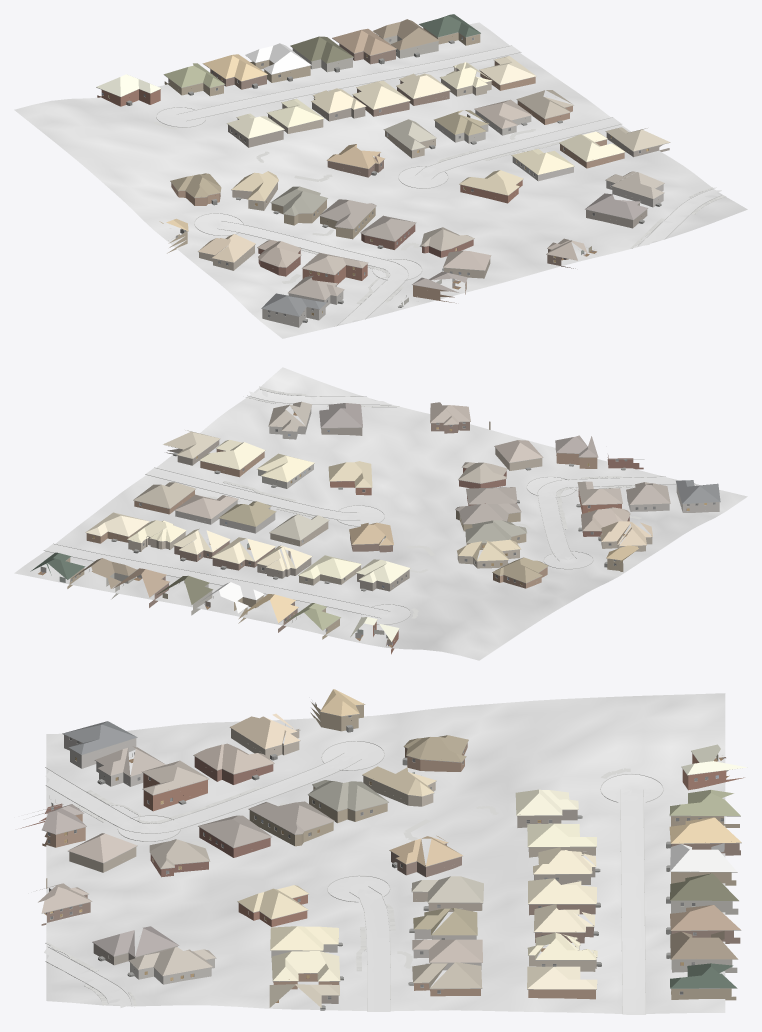
The picture shows the model from 3 angles, top to bottom: view 1: azimuth 30°, elevation 25°; view 2: azimuth 150°, elevation 25°; view 3: azimuth 270°, elevation 25°; orthographic projection. The views are drawn at different scales.
Visible parts, largest first — view 1: ground, roof, wall, concrete, detail, wall_stone, curb, wall_stucco, walk; view 2: ground, roof, concrete, wall, detail, wall_stone, curb, wall_stucco, walk; view 3: ground, roof, concrete, wall, detail, wall_stucco, wall_stone, curb, walk, glass.
Part boxes in pixels (x1,y1,x2,y2): ground: [14, 22, 747, 338]; roof: [96, 14, 670, 316]; wall: [97, 28, 669, 303]; concrete: [156, 46, 721, 323]; detail: [96, 24, 670, 322]; wall_stone: [262, 110, 663, 327]; curb: [156, 45, 721, 326]; wall_stucco: [199, 35, 491, 270]; walk: [153, 122, 726, 304]; ground: [14, 367, 747, 660]; roof: [30, 401, 720, 641]; concrete: [44, 389, 680, 624]; wall: [66, 421, 643, 654]; detail: [38, 407, 720, 645]; wall_stone: [175, 409, 719, 533]; curb: [43, 389, 698, 624]; wall_stucco: [106, 532, 652, 615]; walk: [208, 386, 641, 618]; ground: [46, 693, 725, 1013]; roof: [32, 689, 747, 1007]; concrete: [44, 741, 663, 1014]; wall: [20, 702, 744, 1003]; detail: [27, 704, 741, 1010]; wall_stucco: [231, 728, 738, 972]; wall_stone: [64, 735, 481, 984]; curb: [45, 741, 663, 1014]; walk: [45, 762, 630, 1006]; glass: [48, 703, 723, 999].
Bounding box in the file's own units: 263 × 22.19 × 270.
